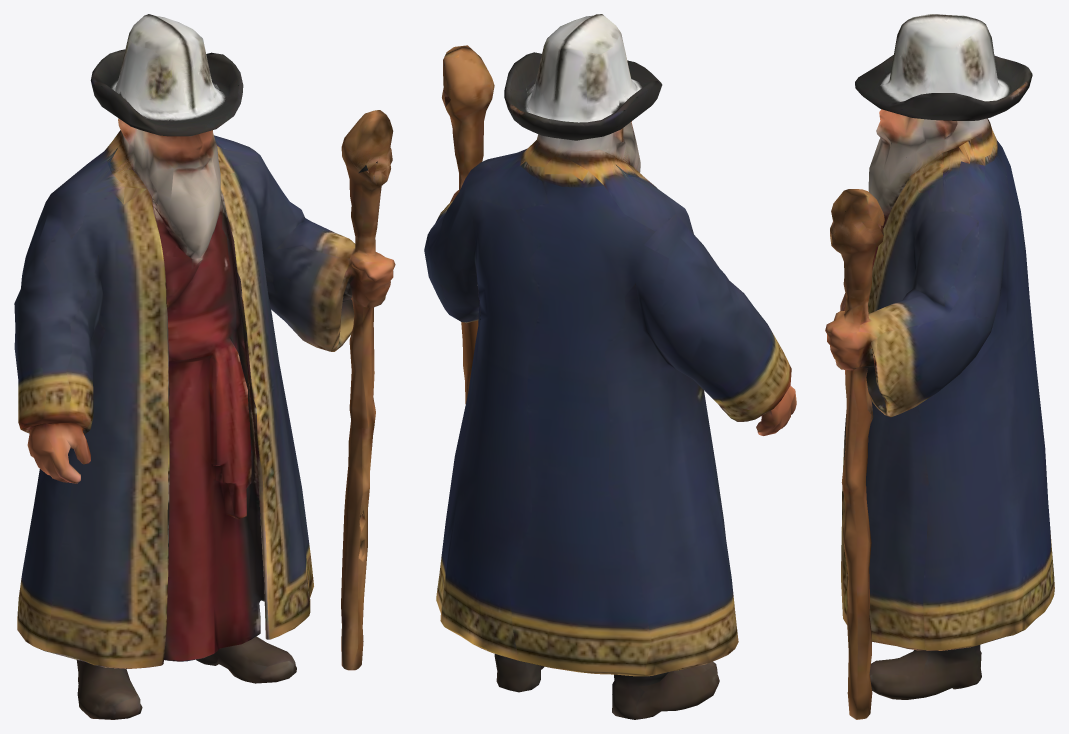
File: elder.gen.glb
3 renders of one model, left to right at view 1: azimuth 30°, elevation 25°; view 2: azimuth 150°, elevation 25°; view 3: azimuth 270°, elevation 25°, orthographic. The views are drawn at different scales.
Visible parts, largest first — view 1: elder.raw; view 2: elder.raw; view 3: elder.raw.
Boxes of the visible parts, box(x1,y1,x2,y2) form: elder.raw: box(14, 14, 395, 719); elder.raw: box(424, 14, 796, 719); elder.raw: box(825, 14, 1054, 719).
Size of the model in its own units: 1.1 by 1.95 by 0.6359.
1 material, 1 textured.
